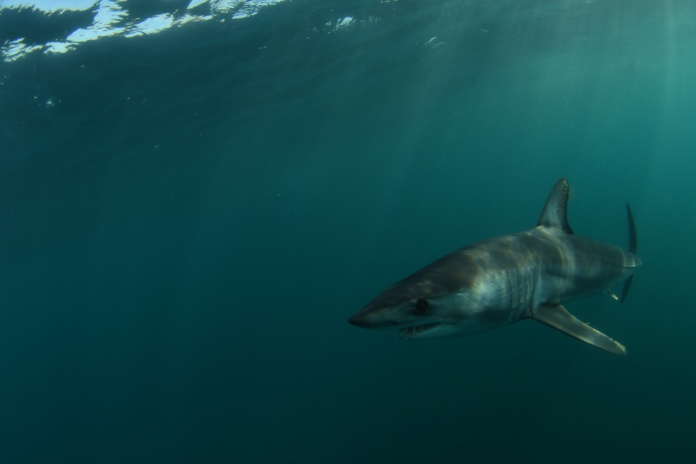Mako: (338, 164, 651, 378)
